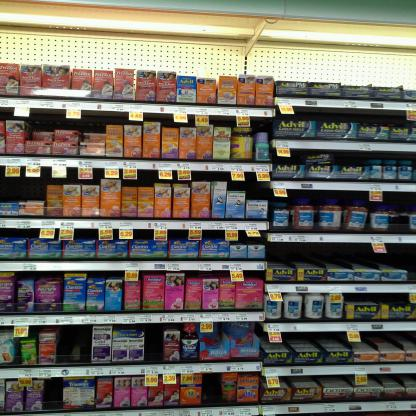Void: (273, 243, 410, 264), (37, 113, 106, 129), (60, 332, 92, 364), (8, 178, 40, 200), (147, 326, 163, 363), (246, 179, 266, 200), (204, 375, 218, 404), (46, 381, 60, 410)
